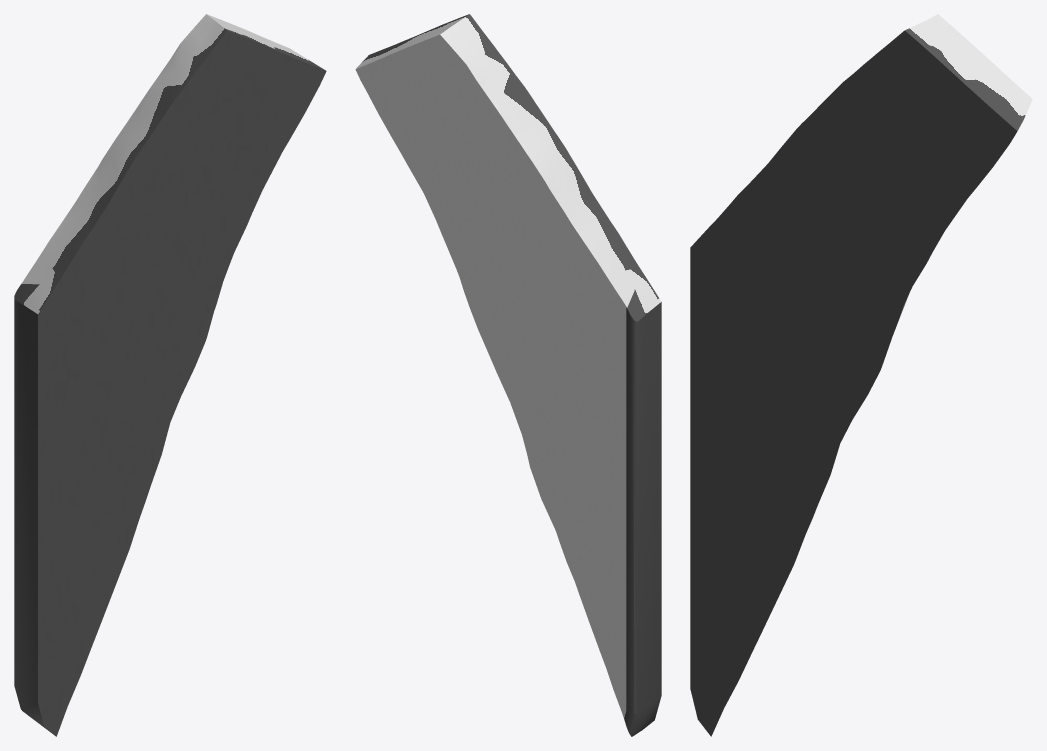
The model's file is Mirror_Eclat_43.fbx.
3 views of the same model, side by side, from view 1: azimuth 30°, elevation 25°; view 2: azimuth 150°, elevation 25°; view 3: azimuth 330°, elevation 25° (orthographic). The views are drawn at different scales.
Parts seen in each view (by area): view 1: Mirror_Eclat_43; view 2: Mirror_Eclat_43; view 3: Mirror_Eclat_43.
Part boxes in pixels (<box>): Mirror_Eclat_43: <box>14,14,326,736</box>; Mirror_Eclat_43: <box>355,14,661,736</box>; Mirror_Eclat_43: <box>690,14,1032,736</box>.
Size of the model in its own units: 0.3487 by 0.7674 by 0.054.
1 material, 1 textured.
